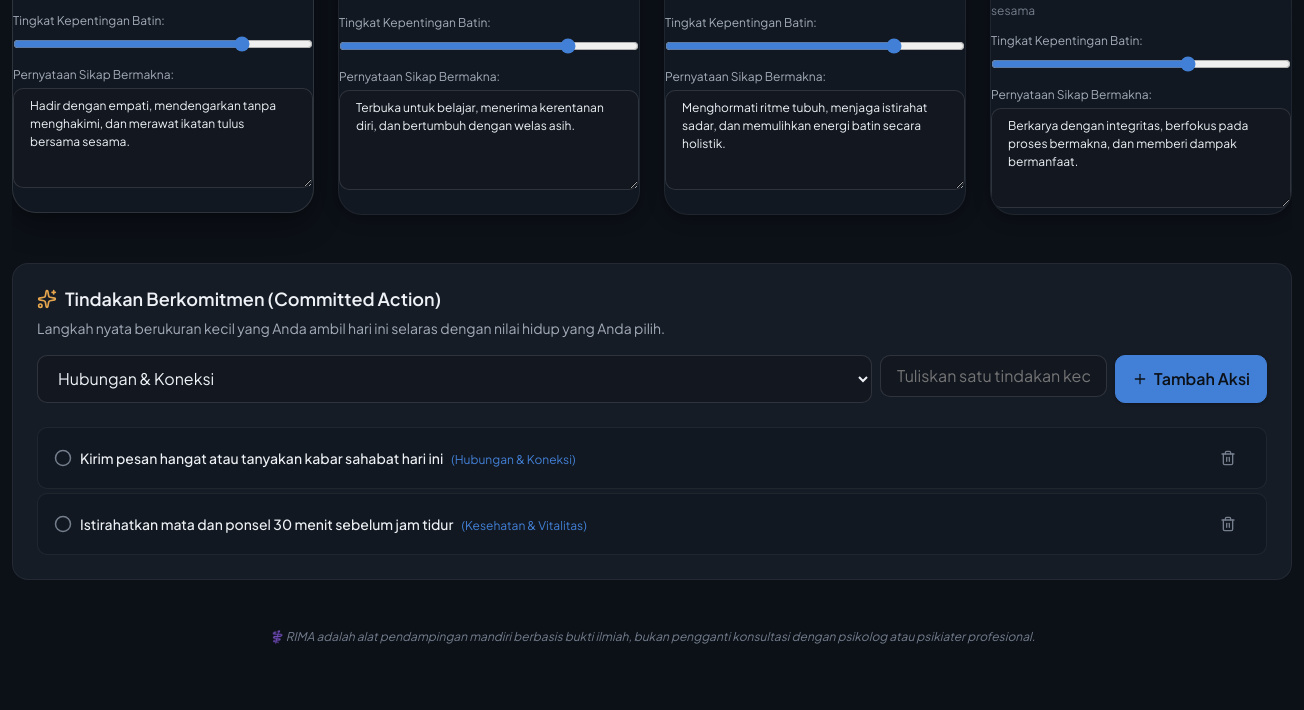
Scenario: ActTherapy Page › renders 4 core life value domains and allows adding a committed action
The width and height of the screenshot is (1304, 710).
(page scrolled)
Type "Minum air putih dan jalan santai" into the field with placeholder "Tuliskan satu tindakan kecil hari ini...". click: (994, 376)
box: [880,355,1107,397]
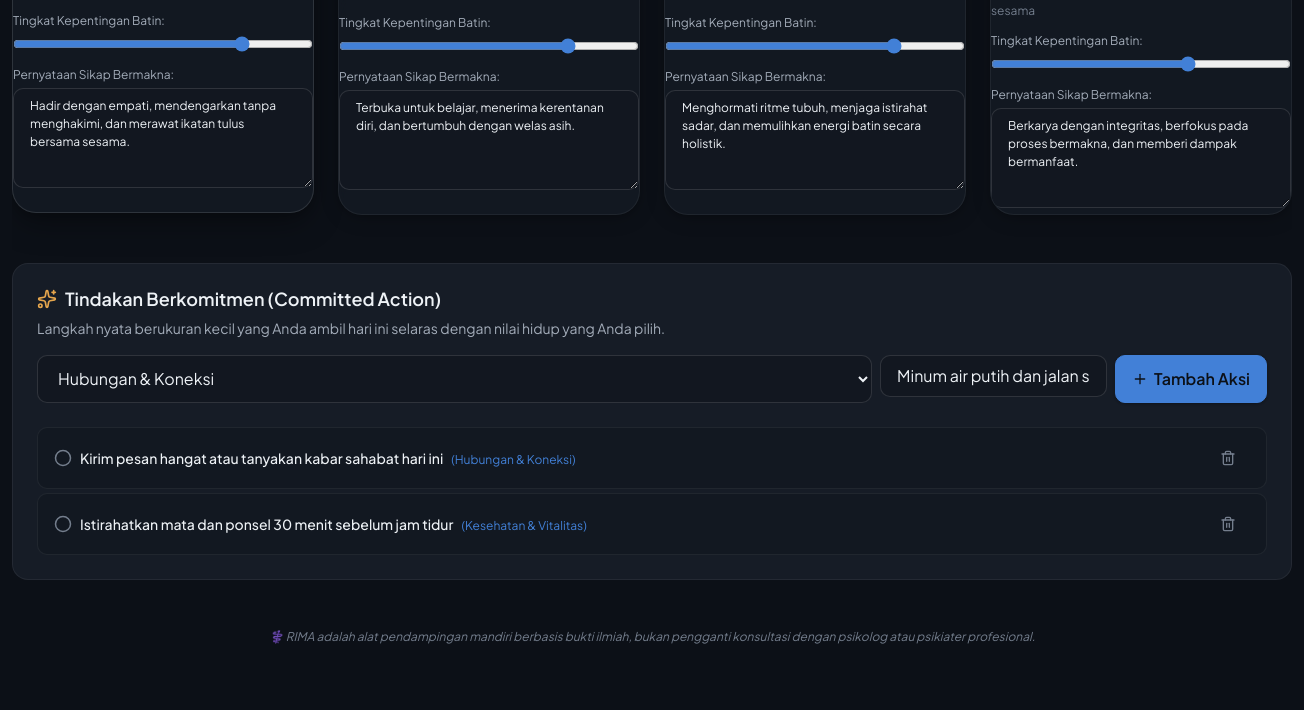
Click the button "Tambah Aksi". click: (1191, 379)
box: [1115,355,1267,403]
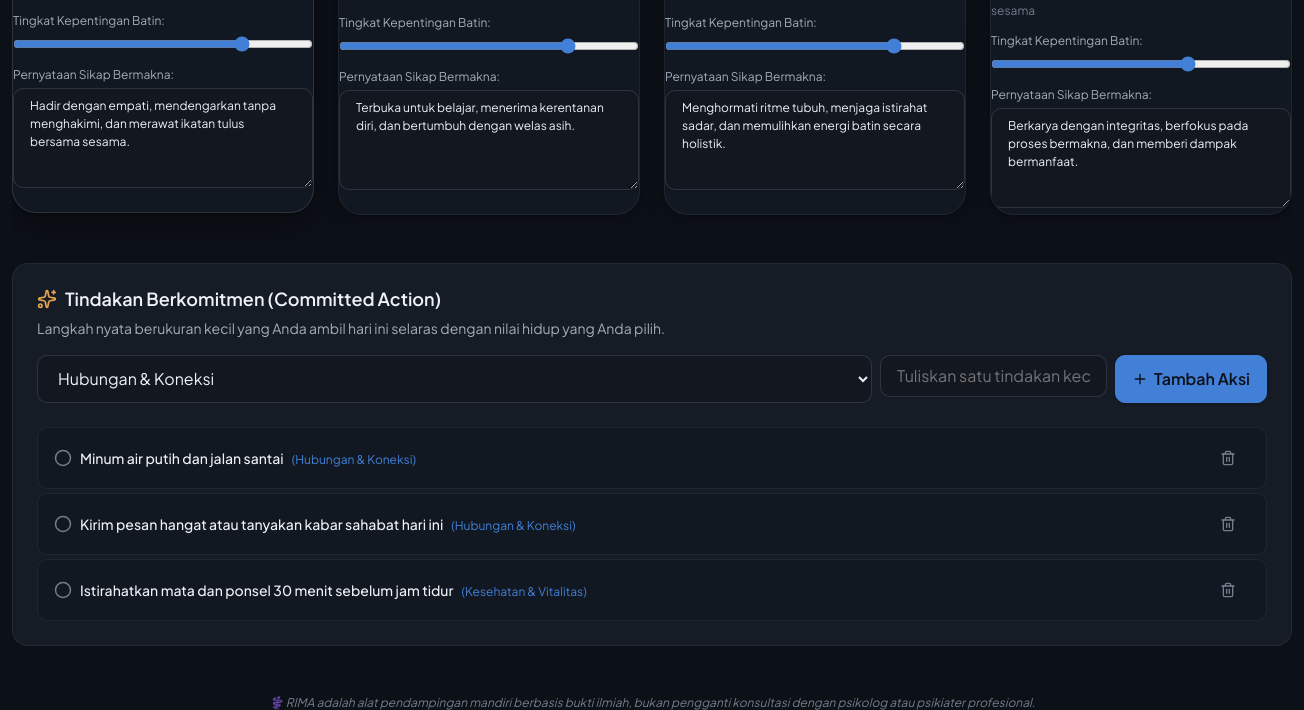
Now the text "Minum air putih dan jalan santai" is shown, box [80,449,284,467]
